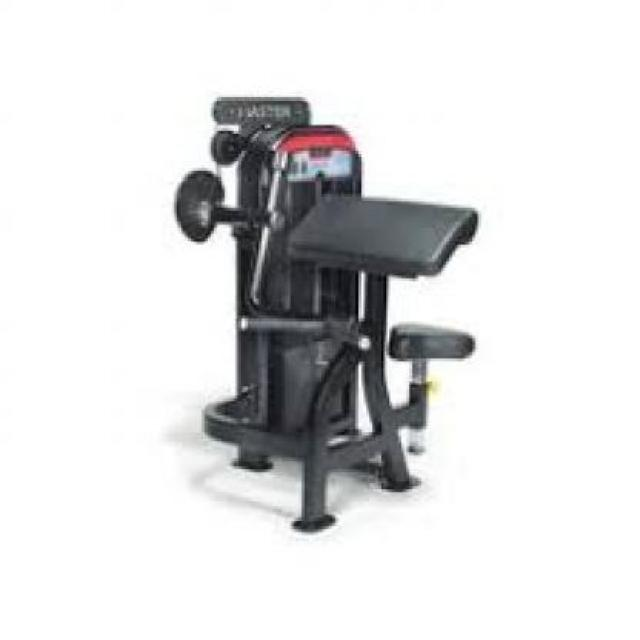arm curl machine: (176, 98, 478, 536)
